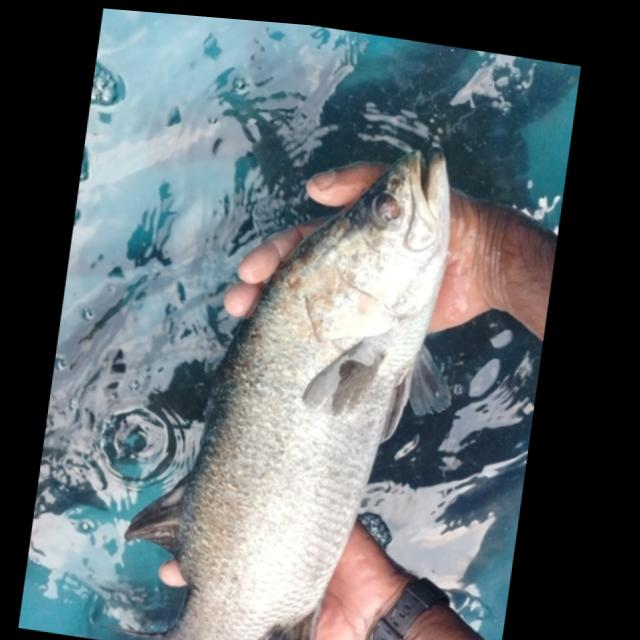Seabass: (107, 104, 489, 640)
